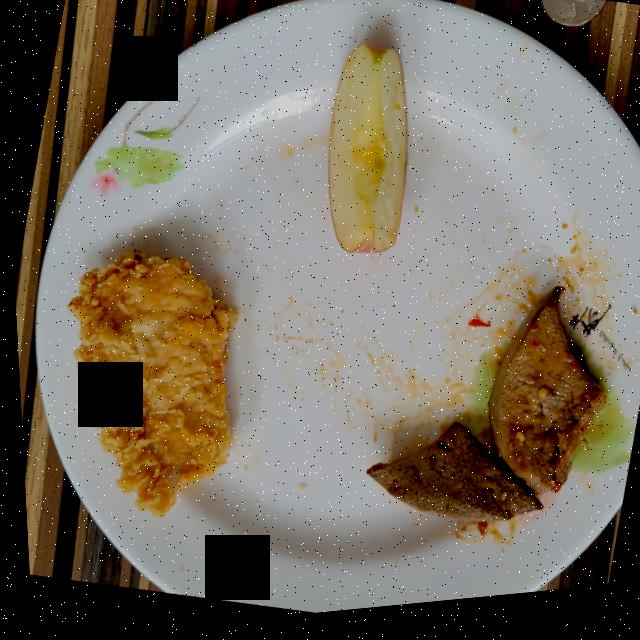apple -sliced-: (325, 50, 405, 259)
coin: (539, 1, 605, 37)
fried chicken cutlet: (65, 253, 233, 518)
pig liver: (361, 295, 601, 530)
